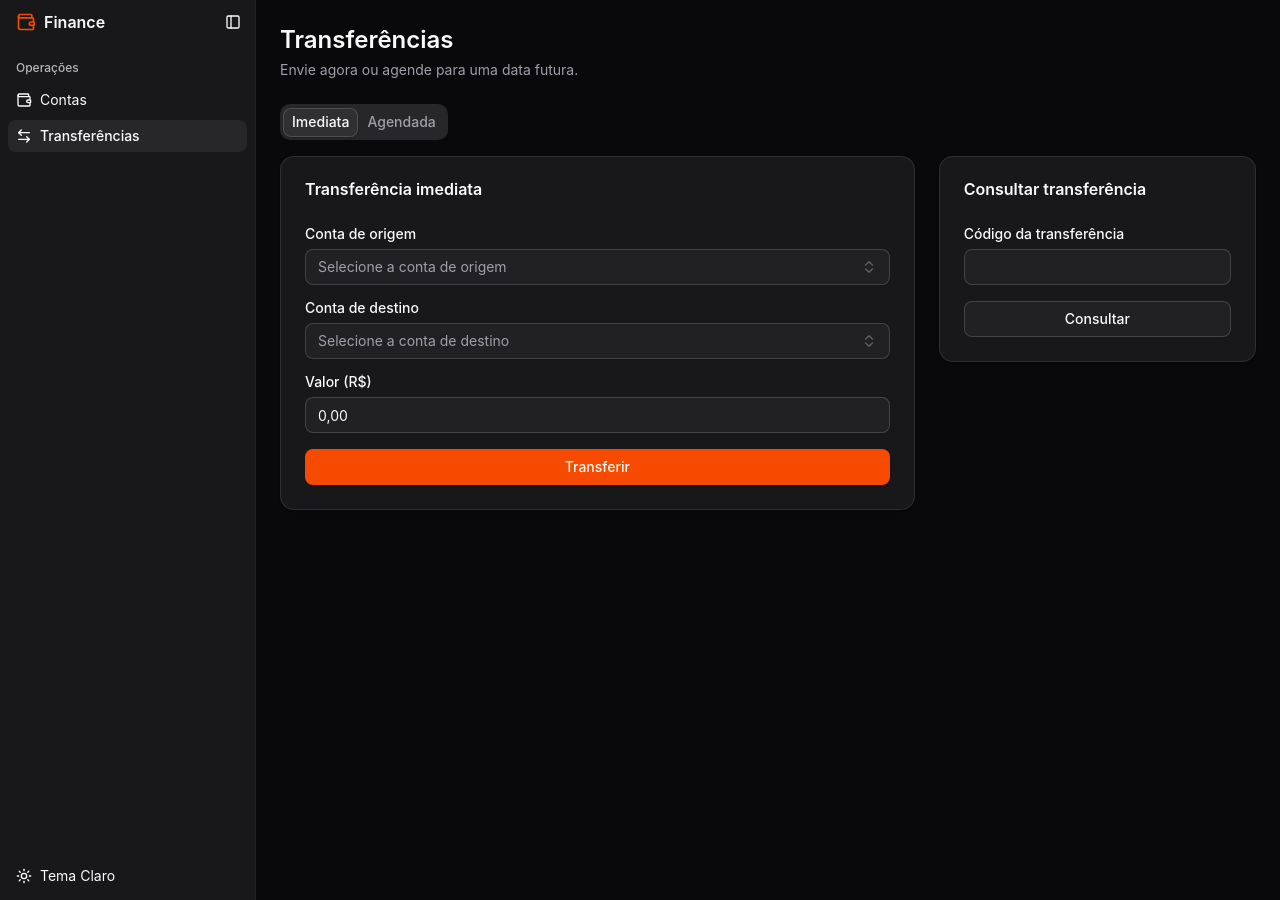
Test: Transfers page › does not offer the source account as destination
Click the dropdown labelled "conta de origem": [412, 266] box [305,249,890,285]
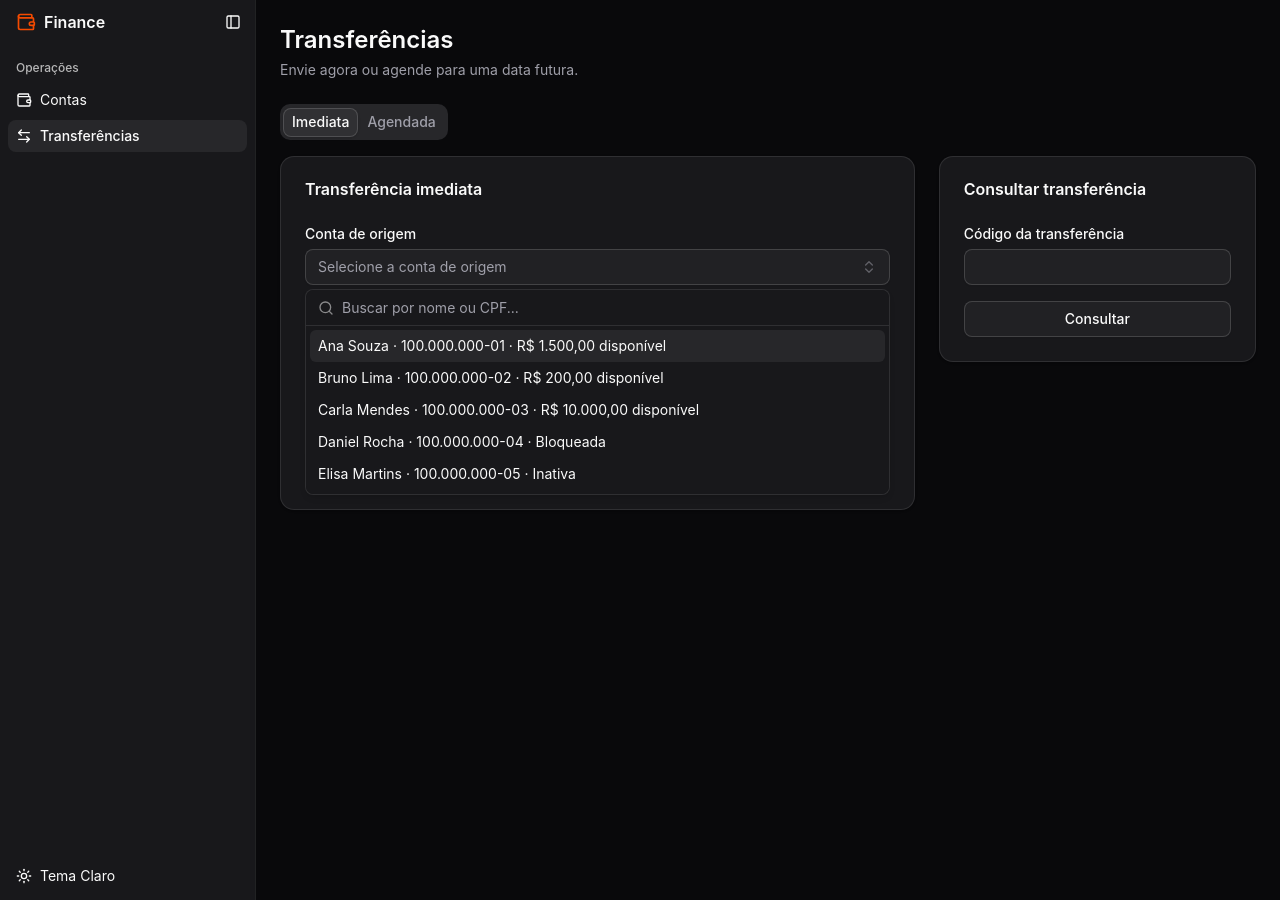
In the dropdown with placeholder "Buscar por nome ou CPF...": [609, 308] box [342,288,877,328], type "Ana Souza"
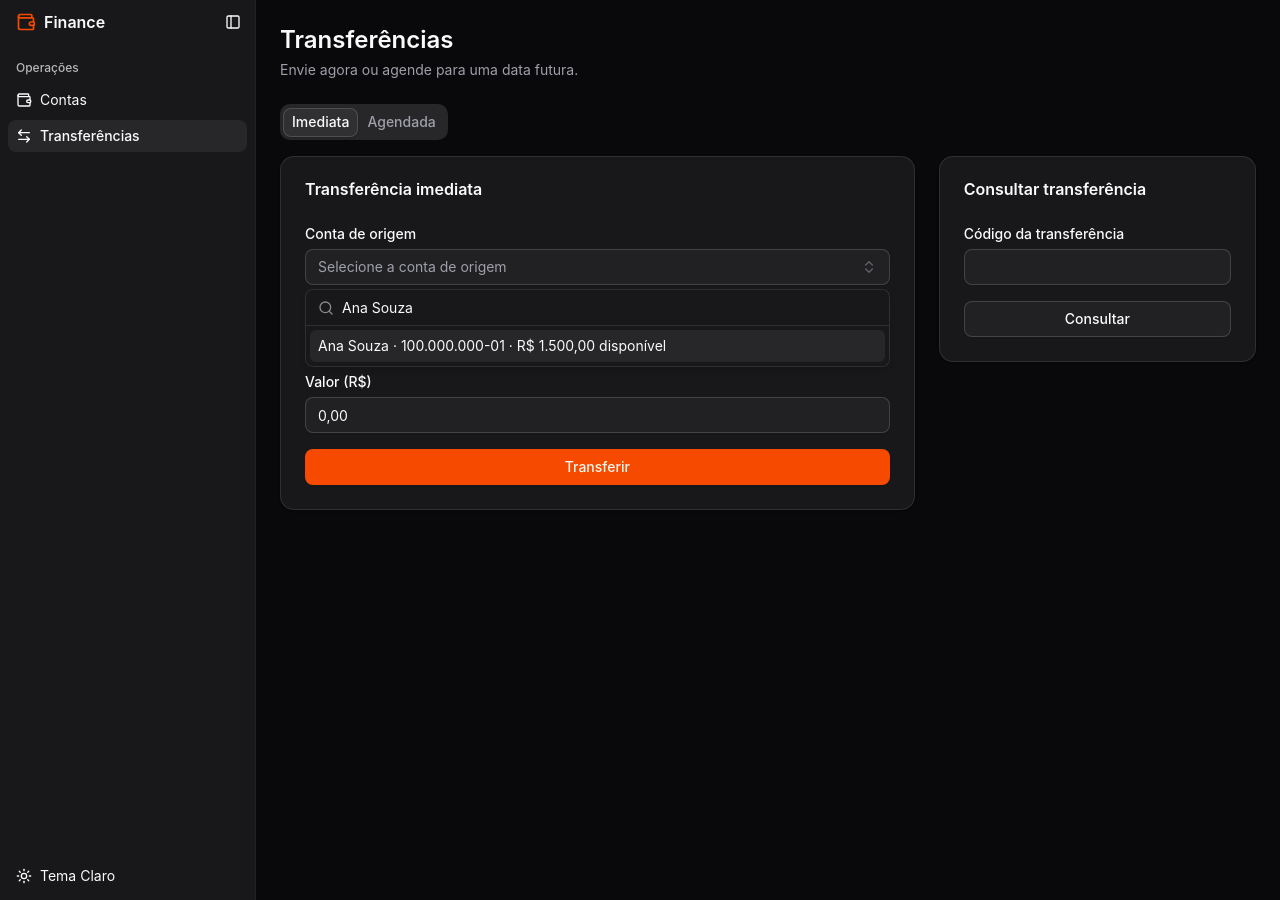
Now the option "Ana Souza · 100.000.000-01 · R$ 1.500,00 disponível" is shown
Click the option "Ana Souza · 100.000.000-01 · R$ 1.500,00 disponível": [597, 346] box [310,330,885,362]
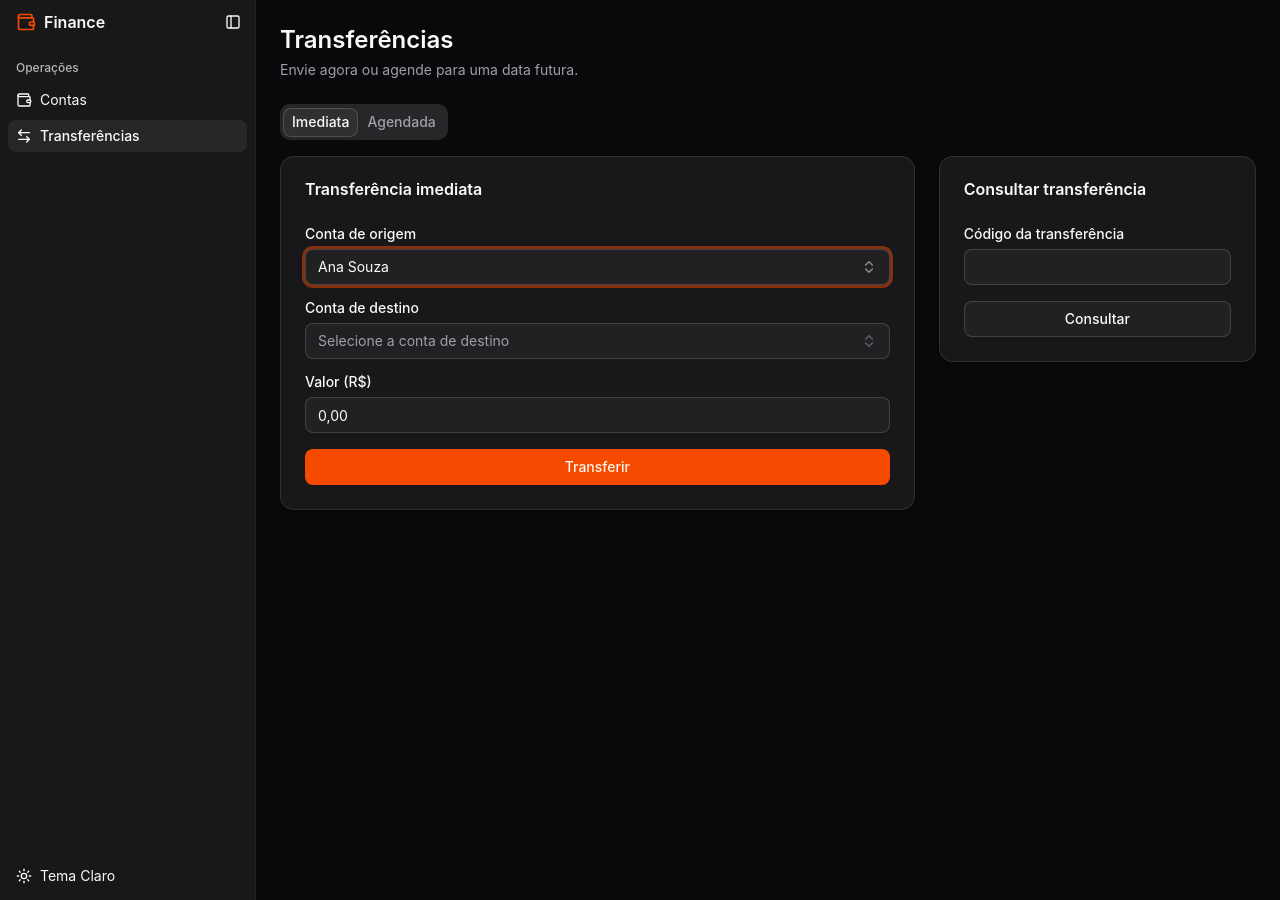
Now the dropdown named "Conta de origem" reads "Ana Souza", box [305,249,890,285]
Click the dropdown labelled "conta de destino": [414, 340] box [305,323,890,359]
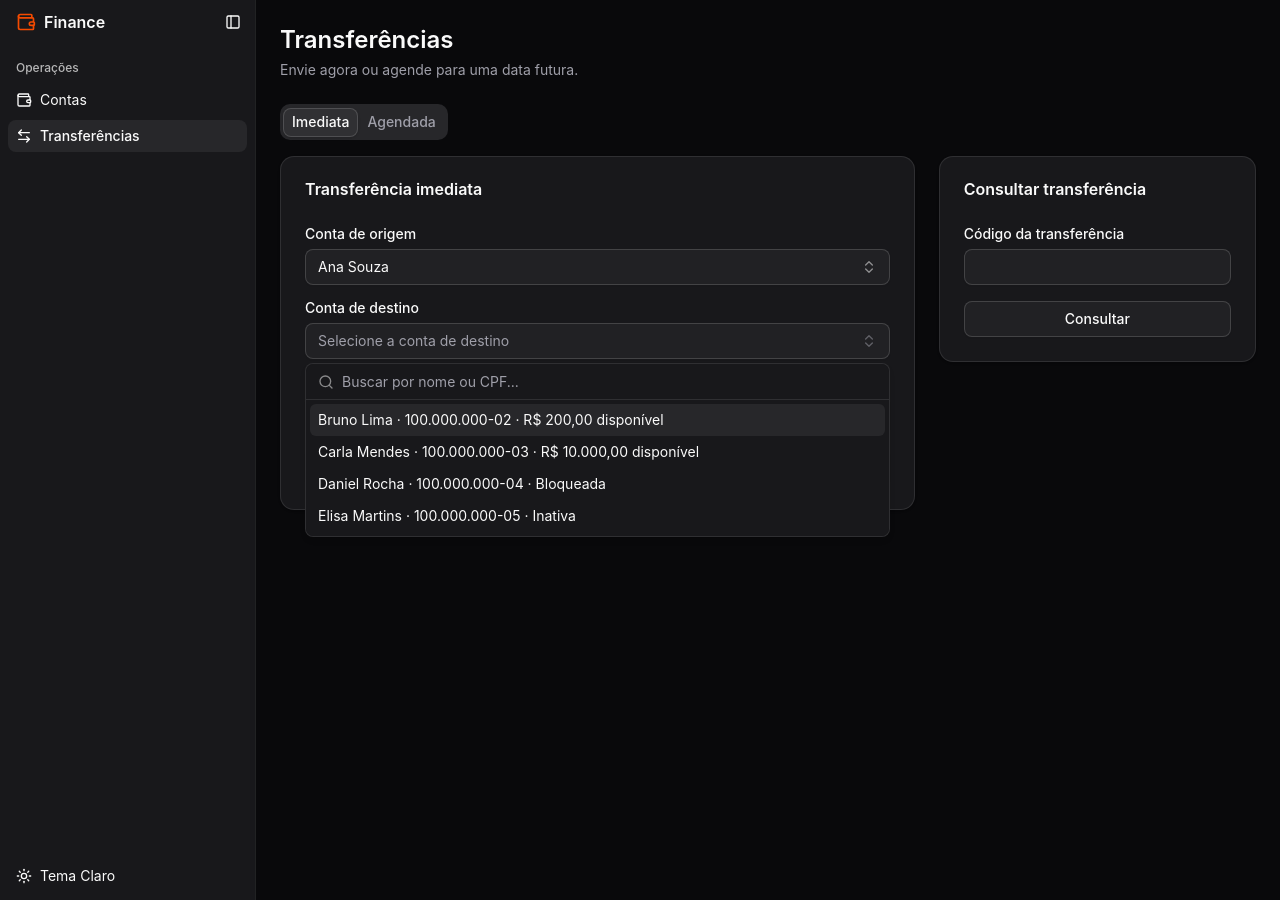
Now the option "Carla Mendes · 100.000.000-03 · R$ 10.000,00 disponível" is shown, box [318,443,699,460]
